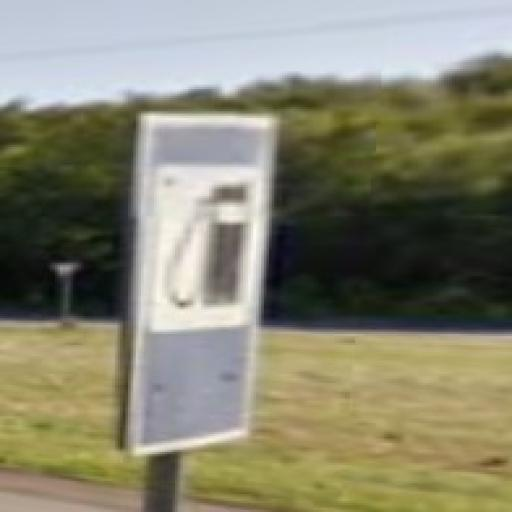traffic_sign: (129, 112, 283, 462)
